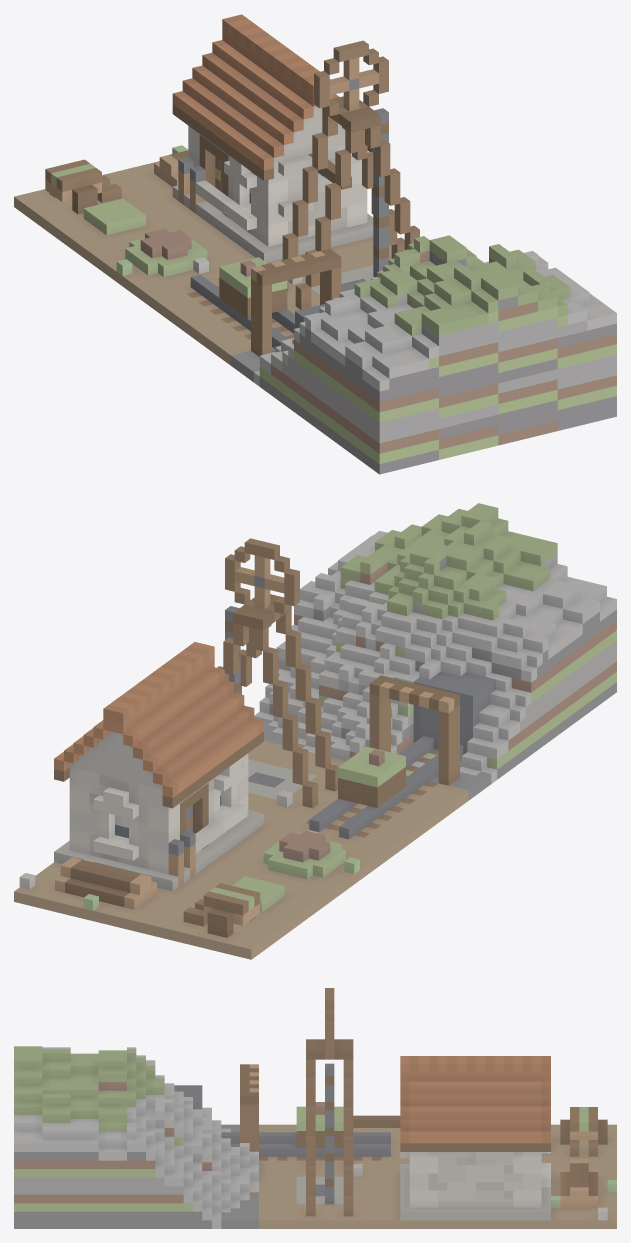
The model's file is copper_mine.glb.
3 views of the same model, one above another, from view 1: azimuth 30°, elevation 25°; view 2: azimuth 150°, elevation 25°; view 3: azimuth 270°, elevation 25° (orthographic). The views are drawn at different scales.
Parts seen in each view (by area): view 1: copper_mine; view 2: copper_mine; view 3: copper_mine.
Part boxes in pixels (x1=…): copper_mine: x1=14, y1=14, x2=616, y2=474; copper_mine: x1=14, y1=503, x2=616, y2=959; copper_mine: x1=14, y1=988, x2=616, y2=1228.
Bounding box in the file's own units: 3 × 3 × 8.
